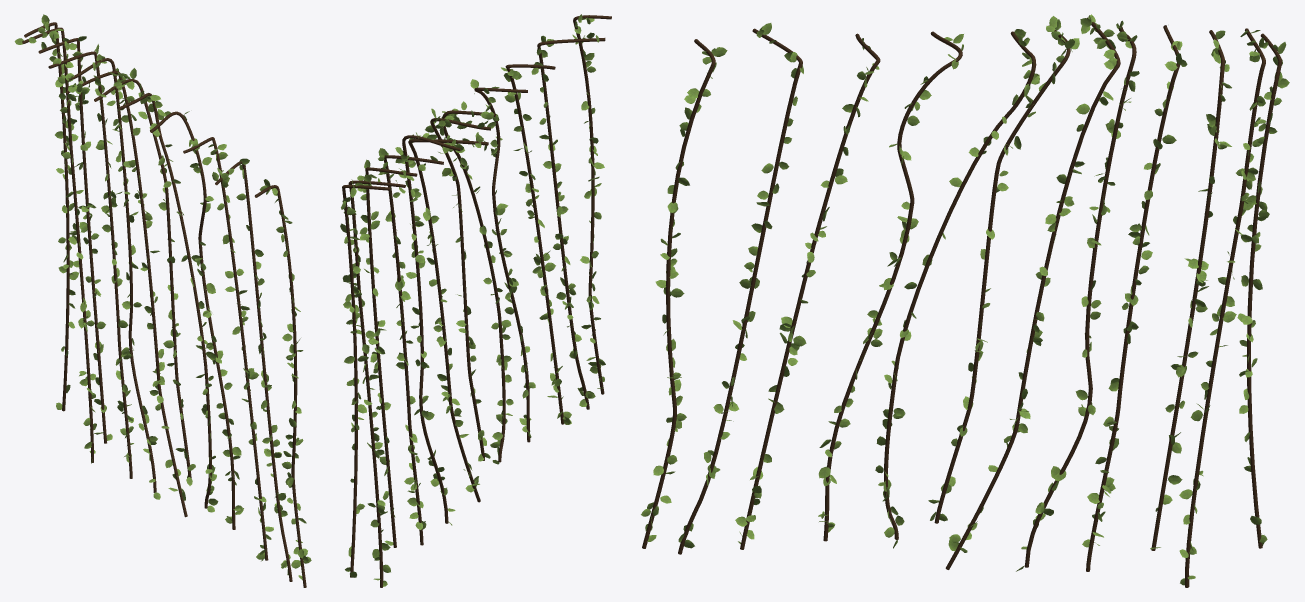
Rendered from Vines_Wall.fbx.
3 views of the same model, side by side, from view 1: azimuth 30°, elevation 25°; view 2: azimuth 150°, elevation 25°; view 3: azimuth 270°, elevation 25° (orthographic). The views are drawn at different scales.
Parts seen in each view (by area): view 1: wall; view 2: wall; view 3: wall.
Boxes of the visible parts, x1,y1,x2,y2 form: wall: [14, 14, 311, 587]; wall: [340, 14, 611, 587]; wall: [641, 14, 1289, 587].
Bounding box in the file's own units: 81.62 × 440 × 474.
